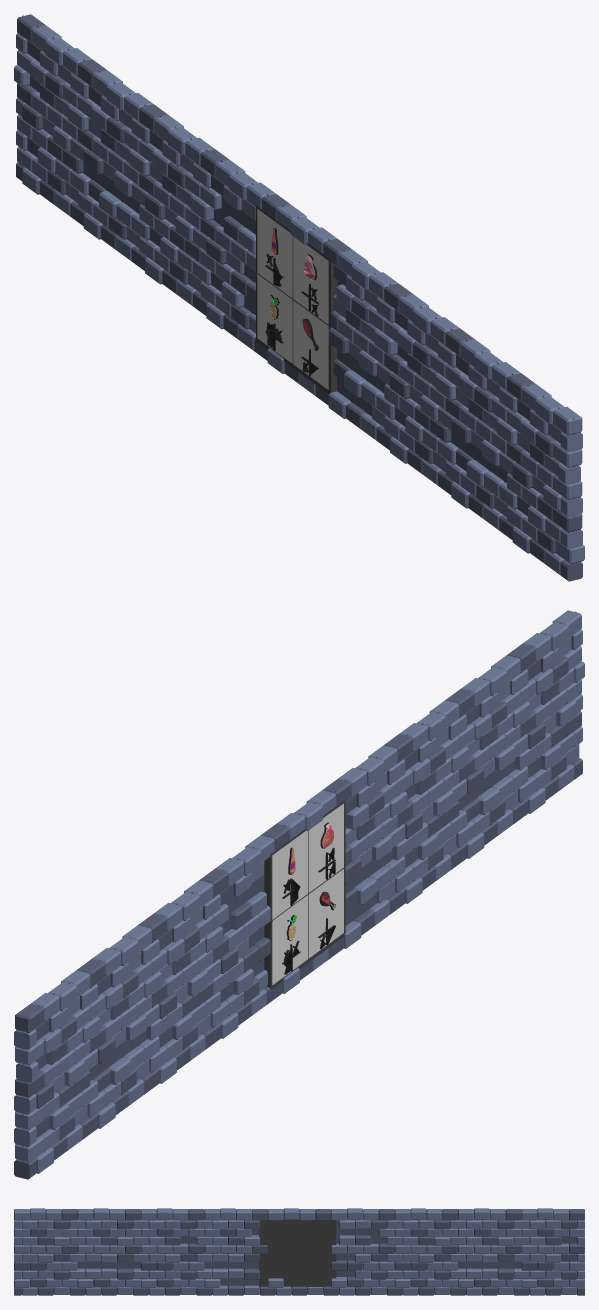
File: Explainchart-Wall.fbx
3 views of the same model, one above another, from view 1: azimuth 30°, elevation 25°; view 2: azimuth 150°, elevation 25°; view 3: azimuth 270°, elevation 25° (orthographic). The views are drawn at different scales.
Parts seen in each view (by area): view 1: brick wall.007, explainchart; view 2: brick wall.007, explainchart; view 3: brick wall.007, explainchart.
Boxes of the visible parts, x1,y1,x2,y2 form: brick wall.007: (14, 14, 584, 581); explainchart: (256, 205, 337, 394); brick wall.007: (14, 610, 584, 1179); explainchart: (264, 799, 345, 989); brick wall.007: (14, 1208, 584, 1295); explainchart: (259, 1219, 336, 1287).
Bounding box in the file's own units: 0.4074 × 3.06 × 18.96.
